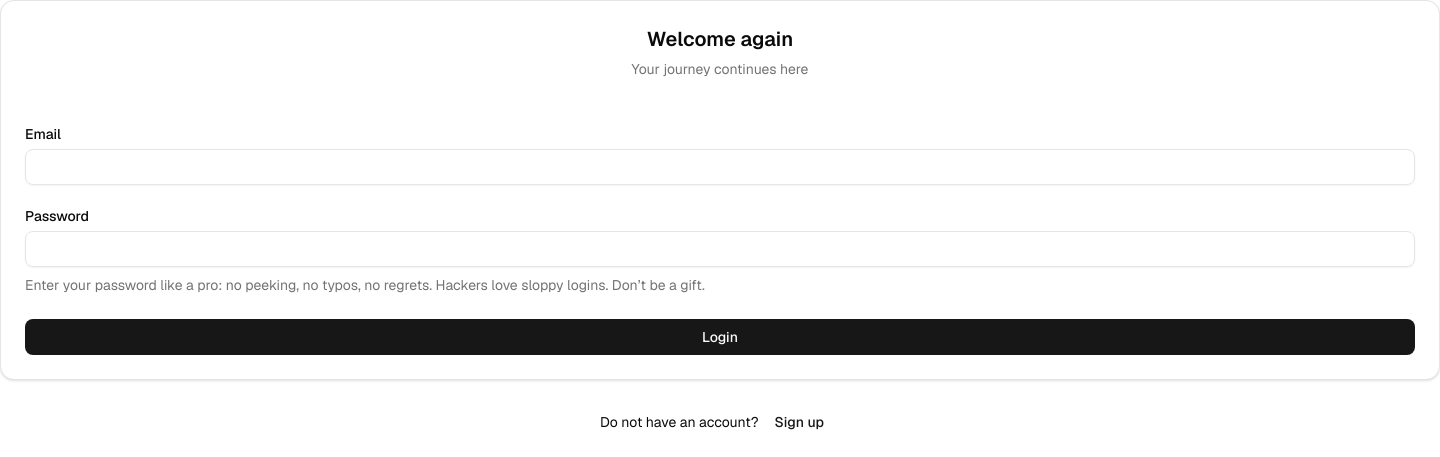
Test: AuthForm › toggles to signup view
Click the button "Sign up" at (799, 422), box [758, 404, 840, 440]
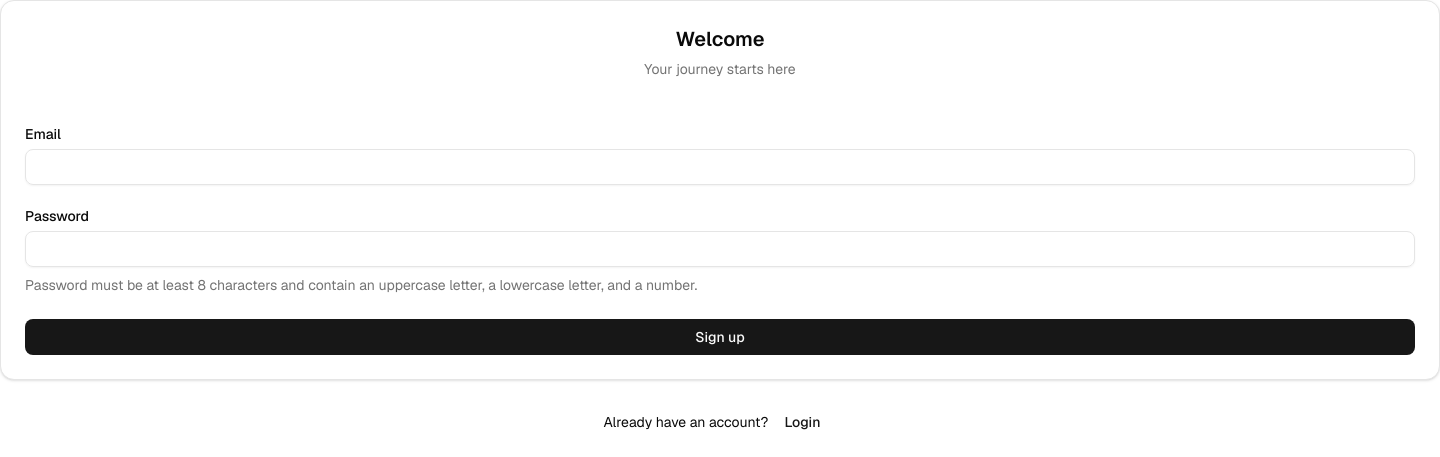
Now the text "Your journey starts here" is shown, box [644, 60, 796, 78]
Now the button "Sign up" is shown, box [25, 319, 1415, 355]
Now the text "Already have an account? Login" is shown, box [604, 404, 836, 440]
